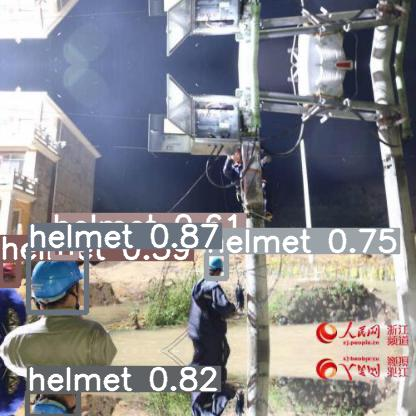helmet: (28, 248, 86, 312), (27, 391, 78, 416), (206, 253, 226, 278), (52, 238, 76, 257), (0, 260, 18, 285)
